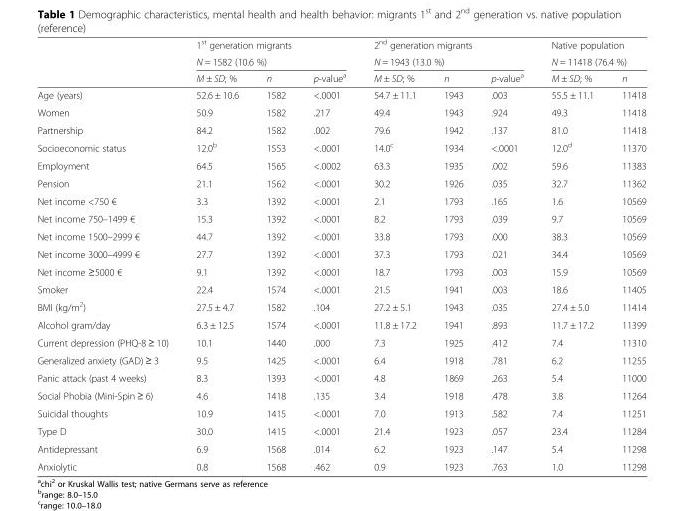table: (36, 37, 645, 471)
table column: (36, 37, 181, 471), (536, 37, 607, 471), (181, 37, 251, 471), (359, 37, 429, 471), (298, 37, 359, 471), (476, 37, 536, 471), (251, 37, 298, 471), (429, 37, 476, 471), (607, 37, 645, 471)
table column header: (36, 37, 645, 86)
table row: (36, 68, 645, 86), (36, 103, 645, 121), (36, 138, 645, 156), (36, 156, 645, 174), (36, 191, 645, 209), (36, 209, 645, 227), (36, 227, 645, 245), (36, 262, 645, 280), (36, 297, 645, 315), (36, 315, 645, 333), (36, 350, 645, 368), (36, 368, 645, 386), (36, 386, 645, 404), (36, 404, 645, 422), (36, 439, 645, 457), (36, 86, 645, 103), (36, 121, 645, 138), (36, 174, 645, 191), (36, 245, 645, 262), (36, 280, 645, 297), (36, 333, 645, 350), (36, 422, 645, 439), (36, 52, 645, 68), (36, 37, 645, 52), (36, 457, 645, 471)
table spanning cell: (181, 37, 359, 68), (359, 37, 536, 68), (536, 37, 645, 68)
